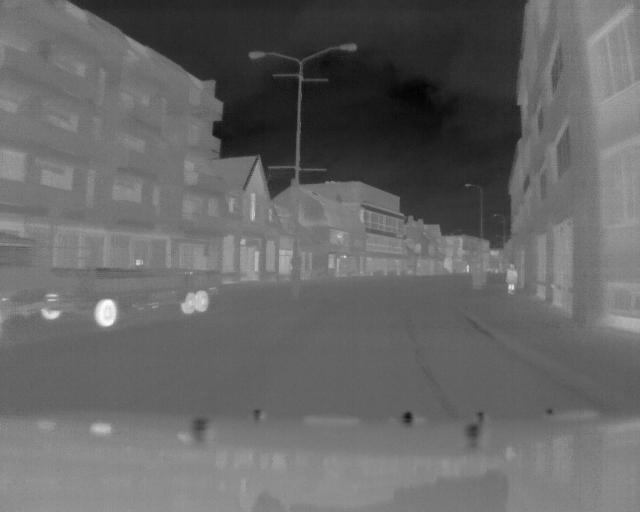person: (505, 262, 517, 296)
